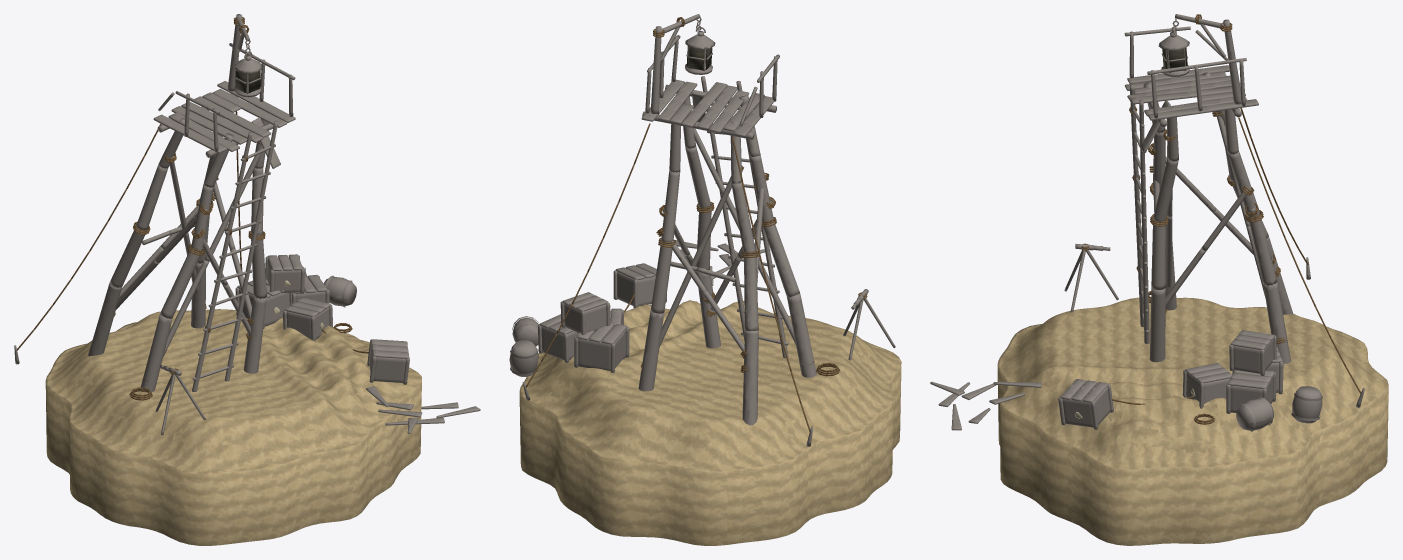
The model's file is wrecker_tower.glb.
3 renders of one model, left to right at view 1: azimuth 30°, elevation 25°; view 2: azimuth 150°, elevation 25°; view 3: azimuth 270°, elevation 25°, orthographic. The views are drawn at different scales.
Parts seen in each view (by area): view 1: wrecker_tower; view 2: wrecker_tower; view 3: wrecker_tower.
Boxes of the visible parts, x1,y1,x2,y2 form: wrecker_tower: (14,14,480,545); wrecker_tower: (509,14,901,545); wrecker_tower: (930,14,1388,545).
Size of the model in its own units: 7.42 by 9.53 by 8.64.
5 materials, 5 textured.
